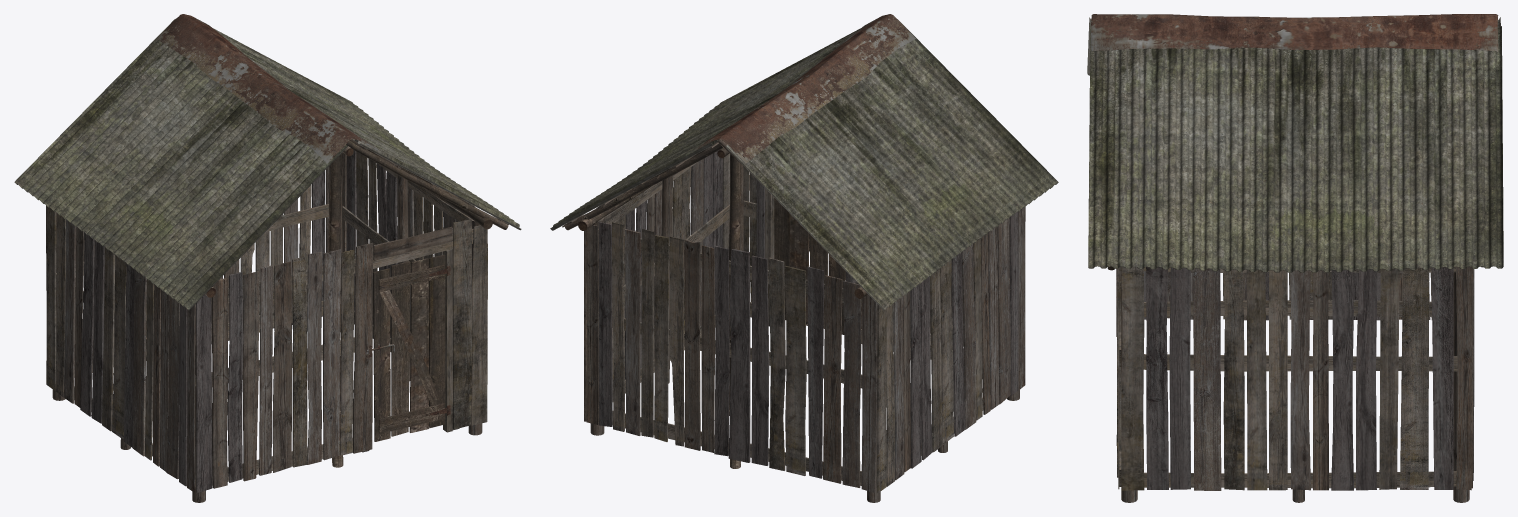
The model's file is old_wooden_shed.glb.
The picture shows the model from 3 angles, left to right: view 1: azimuth 30°, elevation 25°; view 2: azimuth 150°, elevation 25°; view 3: azimuth 270°, elevation 25°; orthographic projection. The views are drawn at different scales.
Visible parts, largest first — view 1: Base, Roof, Door; view 2: Base, Roof, Door; view 3: Roof, Base.
Boxes of the visible parts, x1,y1,x2,y2 form: Base: (46, 139, 508, 502); Roof: (14, 14, 521, 310); Door: (373, 254, 445, 441); Base: (562, 139, 1025, 502); Roof: (550, 14, 1058, 310); Door: (774, 198, 845, 334); Roof: (1087, 14, 1503, 272); Base: (1107, 266, 1483, 502).
Bounding box in the file's own units: 339 × 328 × 306.
Materials: 2 (2 with a texture image).
